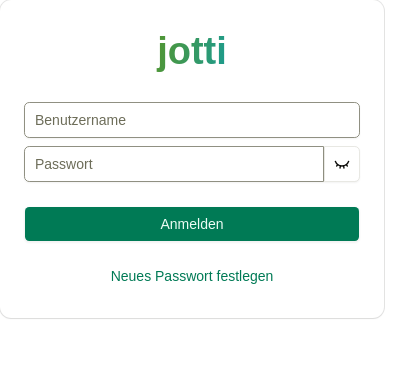
Test: LoginForm › zeigt bei leerem Formular die Feldfehler und löst keinen Login aus
Click the button "Anmelden" at (192, 224), box [24,206,360,242]
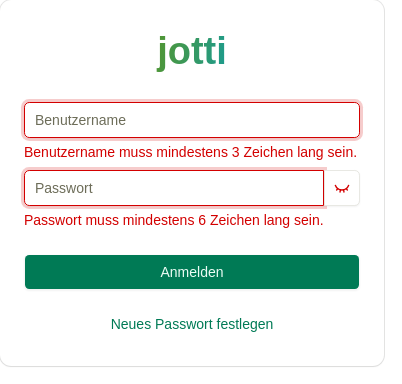
Now the text "Benutzername muss mindestens 3 Zeichen lang sein." is shown, box [24,142,360,162]
Now the text "Passwort muss mindestens 6 Zeichen lang sein." is shown, box [24,210,360,230]
